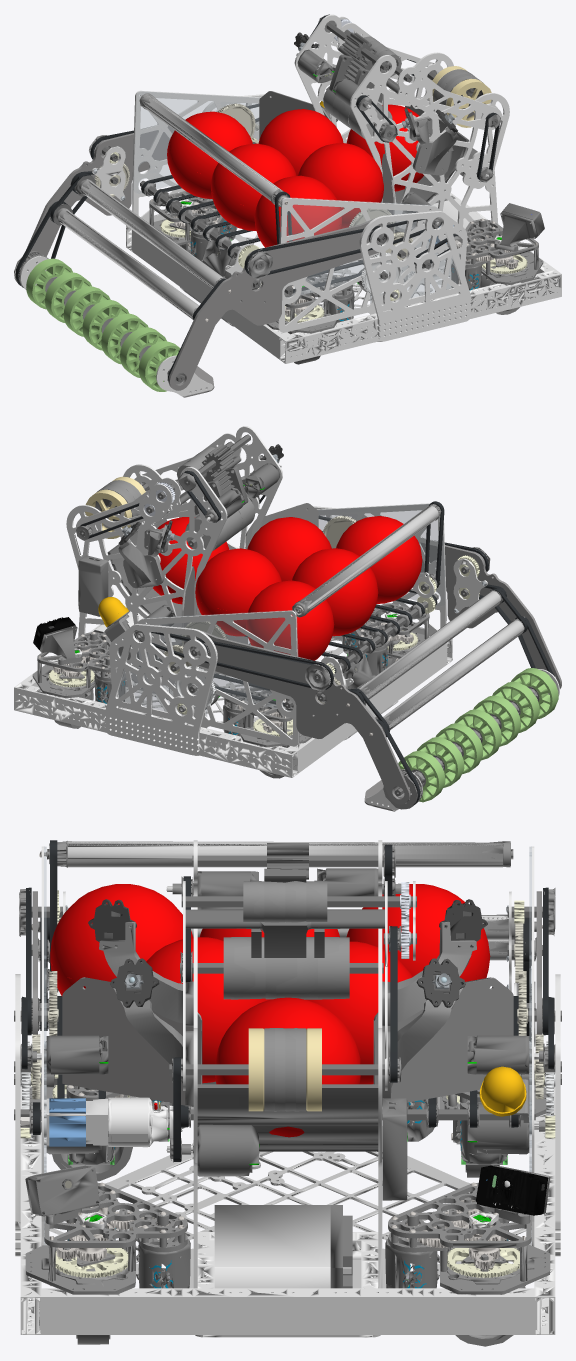
The model's file is hero-multiclass-6731.glb.
3 renders of one model, top to bottom at view 1: azimuth 30°, elevation 25°; view 2: azimuth 150°, elevation 25°; view 3: azimuth 270°, elevation 25°, orthographic. The views are drawn at different scales.
Visible parts, largest first — view 1: frame, intake, roller-main, hood, bubble-1, bubble-3, bubble-4, bubble-2, bubble-5, roller-stub1, roller-stub2, flywheel (+2 smaller); view 2: frame, intake, roller-main, bubble-5, hood, bubble-3, bubble-4, bubble-2, bubble-1, roller-stub2, roller-stub1, flywheel (+2 smaller); view 3: frame, hood, flywheel, intake, feeder, bubble-2, bubble-0, bubble-1, bubble-3, bubble-5, roller-stub2, bubble-4.
Part boxes in pixels (x1,y1,x2,y2): frame: [126, 14, 561, 364]; intake: [14, 111, 393, 397]; roller-main: [26, 258, 183, 391]; hood: [331, 16, 501, 130]; bubble-1: [298, 143, 383, 228]; bubble-3: [167, 111, 252, 198]; bubble-4: [211, 143, 296, 230]; bubble-2: [254, 175, 341, 247]; bubble-5: [258, 109, 343, 175]; roller-stub1: [56, 208, 208, 321]; roller-stub2: [79, 179, 230, 293]; flywheel: [427, 66, 497, 127]; frame: [14, 426, 452, 778]; intake: [184, 541, 561, 811]; roller-main: [395, 668, 558, 802]; bubble-5: [195, 548, 281, 636]; hood: [76, 433, 241, 541]; bubble-3: [246, 580, 334, 660]; bubble-4: [292, 548, 378, 636]; bubble-2: [336, 516, 422, 603]; bubble-1: [247, 517, 331, 581]; roller-stub2: [346, 590, 503, 706]; roller-stub1: [369, 616, 528, 735]; flywheel: [80, 476, 149, 538]; frame: [14, 840, 561, 1346]; hood: [181, 868, 416, 1090]; flywheel: [169, 1028, 401, 1111]; intake: [19, 887, 555, 1046]; feeder: [180, 937, 383, 999]; bubble-2: [50, 884, 192, 996]; bubble-0: [215, 997, 360, 1137]; bubble-1: [146, 937, 271, 1083]; bubble-3: [346, 884, 490, 981]; bubble-5: [306, 941, 412, 1084]; roller-stub2: [31, 914, 542, 939]; bubble-4: [200, 928, 339, 940].
Size of the model in its own units: 0.936 by 0.5701 by 0.6636.
